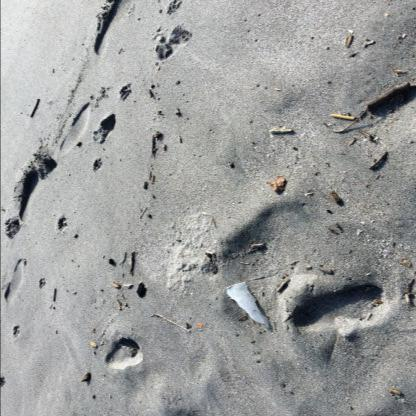Other plastic: (226, 282, 269, 327), (198, 323, 202, 328)
